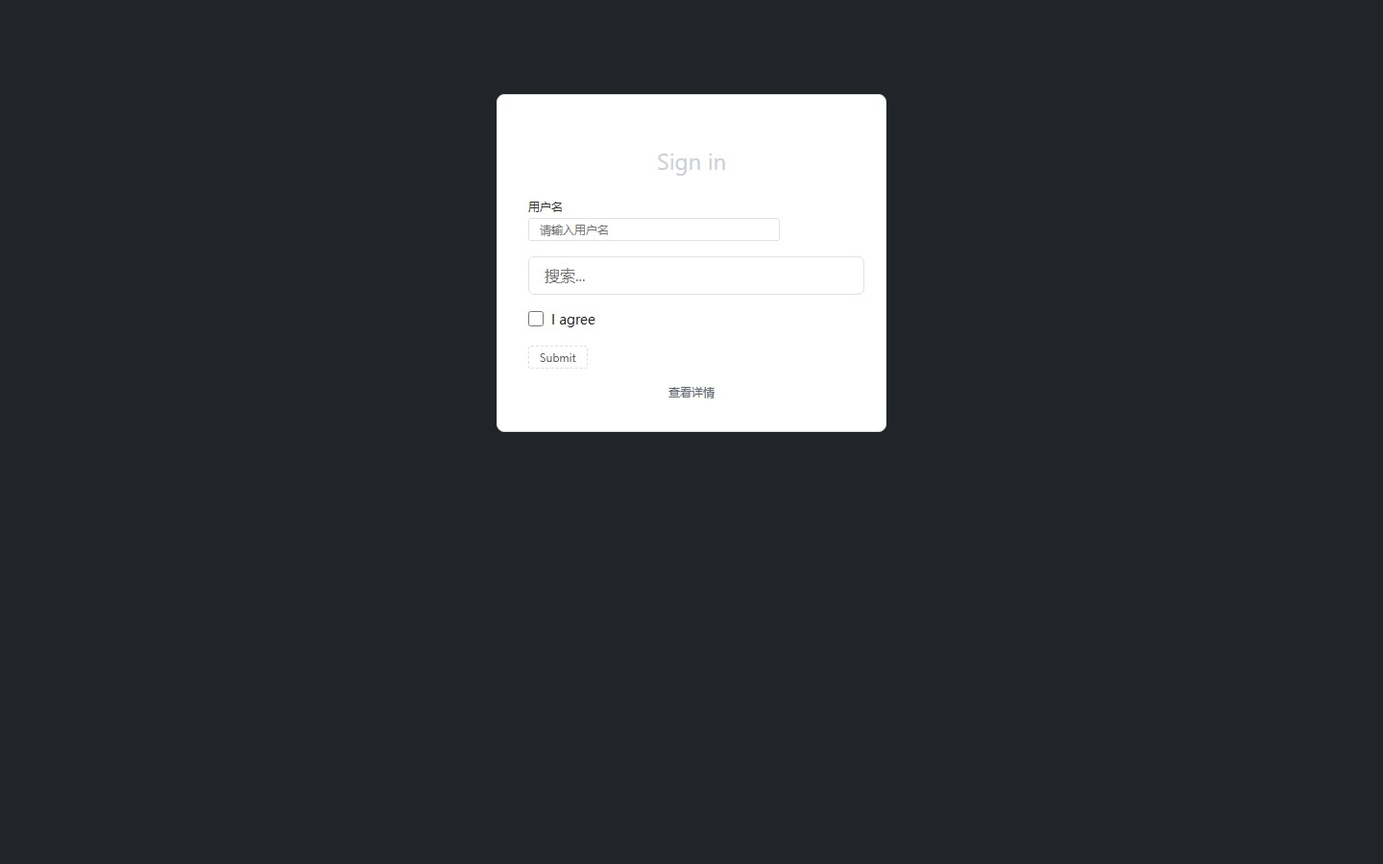button: (528, 346, 587, 369)
checkbox: (528, 311, 544, 327)
icon: (551, 310, 595, 328)
input: (528, 256, 864, 294), (528, 218, 780, 241)
link: (668, 384, 715, 400)
radio: (528, 310, 595, 328)
